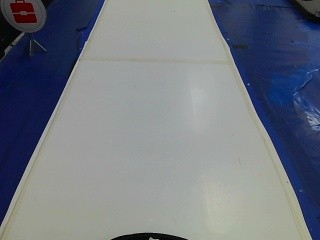company: (0, 0, 45, 35)
